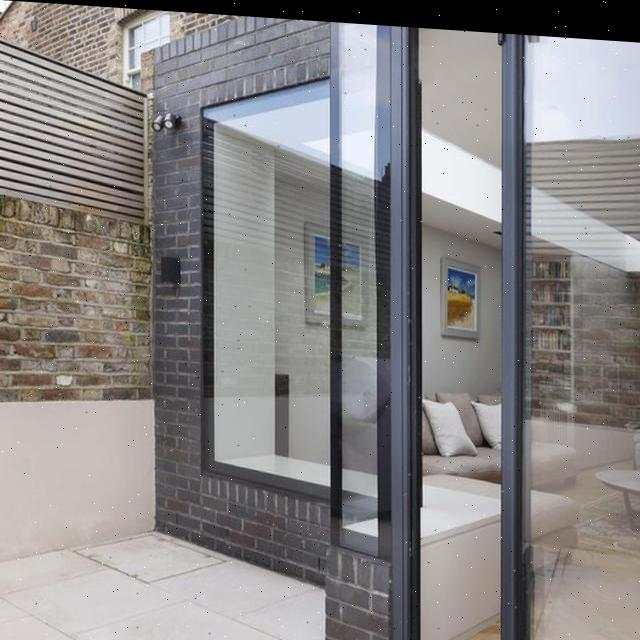building: (147, 11, 640, 640)
